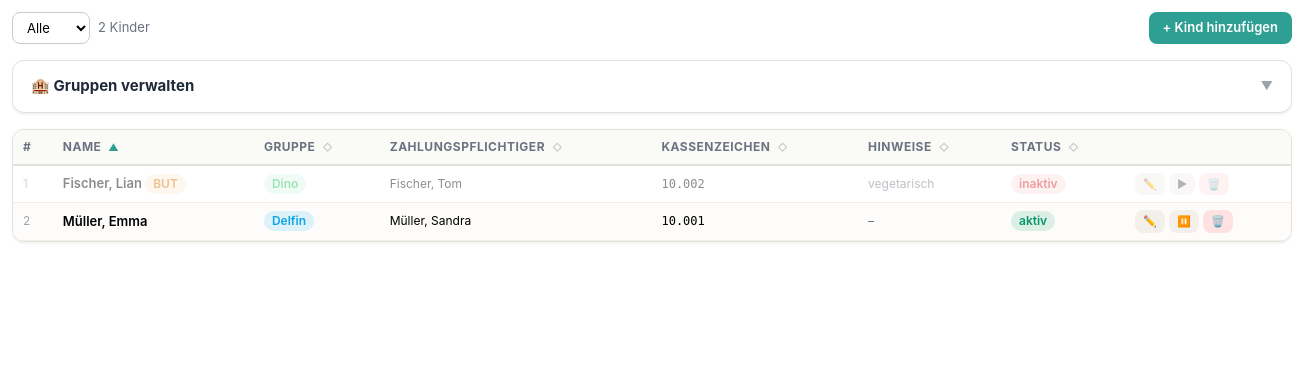
Test case: Stammdaten › Gruppen verwalten › shows Gruppen panel when toggled
The width and height of the screenshot is (1304, 386).
expect the field with placeholder "Neue Gruppe..." is not shown: met
Click the text "🏨 Gruppen verwalten" at (113, 86), box [31,75,194,98]
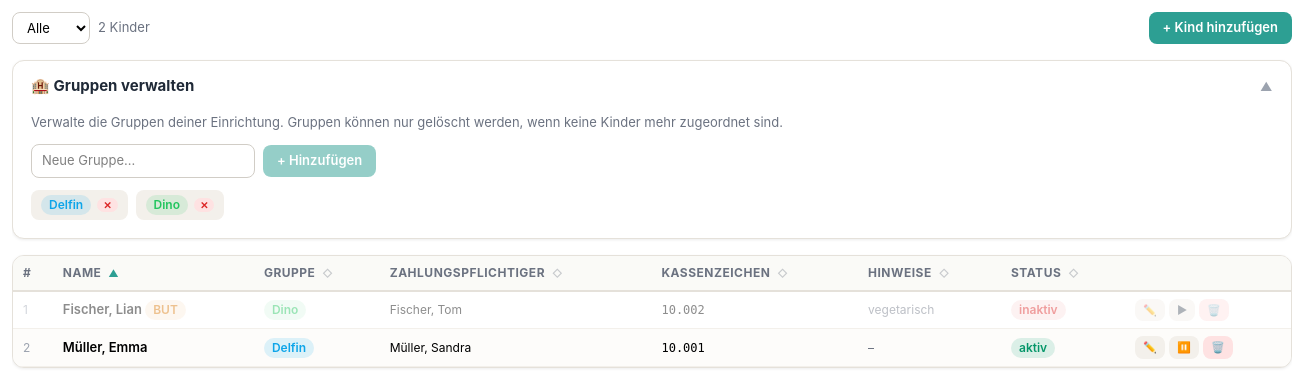
expect the field with placeholder "Neue Gruppe..." is shown: met, box [31,144,255,178]
